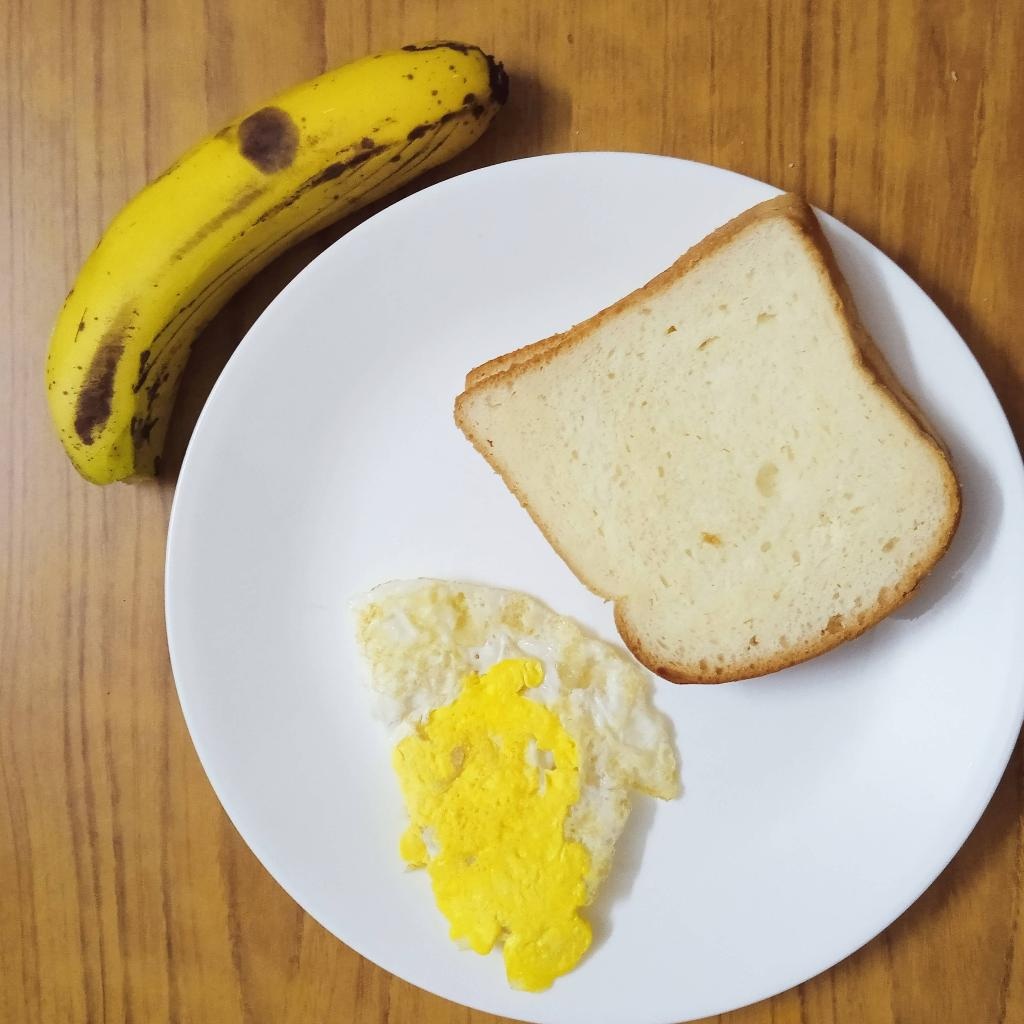banana: (48, 46, 503, 493)
bread: (451, 188, 970, 679)
egg-poached: (354, 575, 683, 986)
